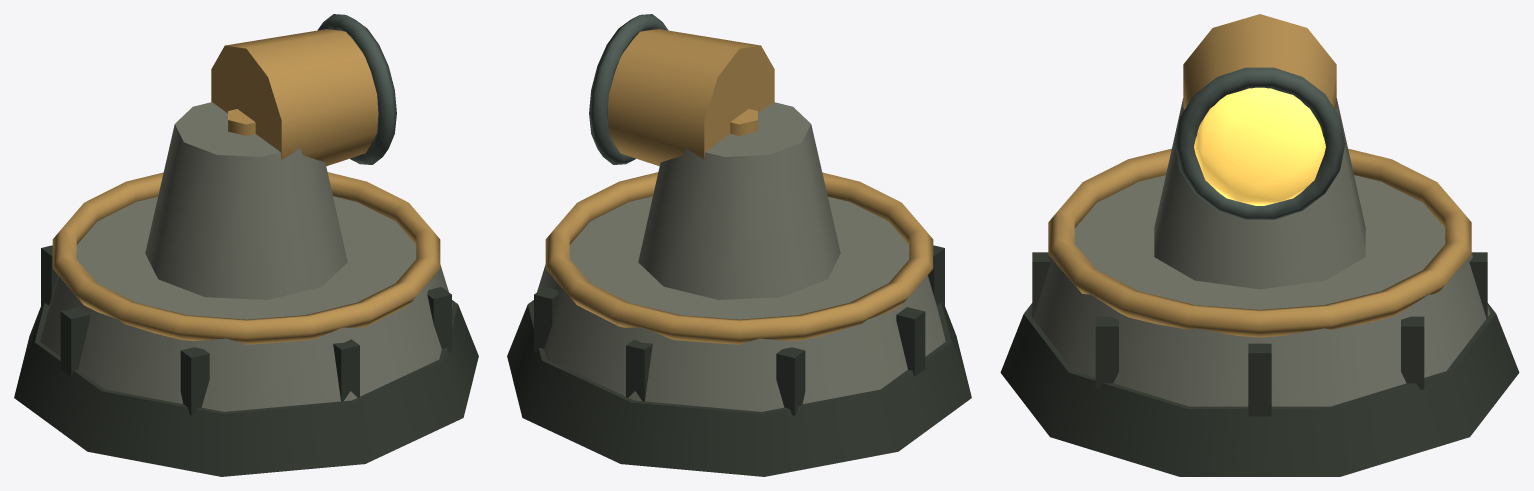
File: tower_laser_laserFocus.glb
3 renders of one model, left to right at view 1: azimuth 30°, elevation 25°; view 2: azimuth 150°, elevation 25°; view 3: azimuth 270°, elevation 25°, orthographic. The views are drawn at different scales.
Parts seen in each view (by area): view 1: stone_1, foot_0, column_11, lens_housing_13, rim_2, focus_ring_14, mortar_6, mortar_7, mortar_5, mortar_4, mortar_8, lens_arm_12; view 2: stone_1, foot_0, column_11, lens_housing_13, rim_2, focus_ring_14, mortar_8, mortar_7, mortar_9, mortar_10, mortar_6, lens_arm_12; view 3: stone_1, foot_0, rim_2, column_11, lens_glass_15, focus_ring_14, lens_housing_13, mortar_3, mortar_4, mortar_10, mortar_5, mortar_9.
Boxes of the visible parts, bbox=[...] form: stone_1: bbox=[40, 196, 452, 411]; foot_0: bbox=[14, 300, 478, 476]; column_11: bbox=[145, 102, 347, 299]; lens_housing_13: bbox=[211, 29, 378, 166]; rim_2: bbox=[52, 172, 440, 344]; focus_ring_14: bbox=[317, 14, 396, 164]; mortar_6: bbox=[180, 347, 209, 415]; mortar_7: bbox=[60, 307, 89, 376]; mortar_5: bbox=[333, 339, 359, 401]; mortar_4: bbox=[427, 287, 451, 352]; mortar_8: bbox=[41, 245, 57, 306]; lens_arm_12: bbox=[228, 109, 255, 135]; stone_1: bbox=[533, 196, 945, 411]; foot_0: bbox=[507, 300, 971, 476]; column_11: bbox=[638, 102, 840, 299]; lens_housing_13: bbox=[607, 29, 774, 166]; rim_2: bbox=[545, 172, 933, 344]; focus_ring_14: bbox=[589, 14, 668, 164]; mortar_8: bbox=[776, 347, 805, 415]; mortar_7: bbox=[896, 307, 925, 376]; mortar_9: bbox=[626, 339, 652, 401]; mortar_10: bbox=[534, 287, 558, 352]; mortar_6: bbox=[928, 245, 944, 306]; lens_arm_12: bbox=[730, 109, 757, 135]; stone_1: bbox=[1029, 175, 1490, 406]; foot_0: bbox=[1000, 303, 1519, 476]; rim_2: bbox=[1048, 148, 1471, 337]; column_11: bbox=[1154, 98, 1365, 289]; lens_glass_15: bbox=[1194, 87, 1325, 205]; focus_ring_14: bbox=[1174, 67, 1345, 219]; lens_housing_13: bbox=[1183, 14, 1336, 129]; mortar_3: bbox=[1248, 343, 1271, 416]; mortar_4: bbox=[1095, 316, 1118, 389]; mortar_10: bbox=[1401, 316, 1424, 389]; mortar_5: bbox=[1032, 252, 1050, 318]; mortar_9: bbox=[1469, 252, 1487, 318].
Size of the model in its own units: 0.5326 by 0.4306 by 0.56.
